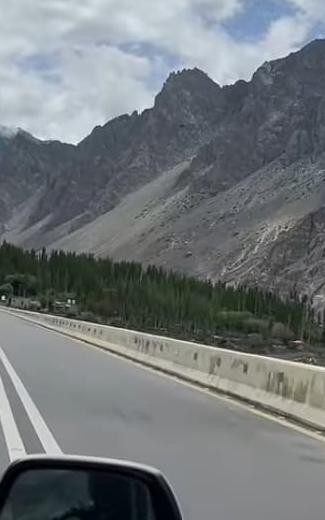sharp_turn: (0, 282, 133, 482)
